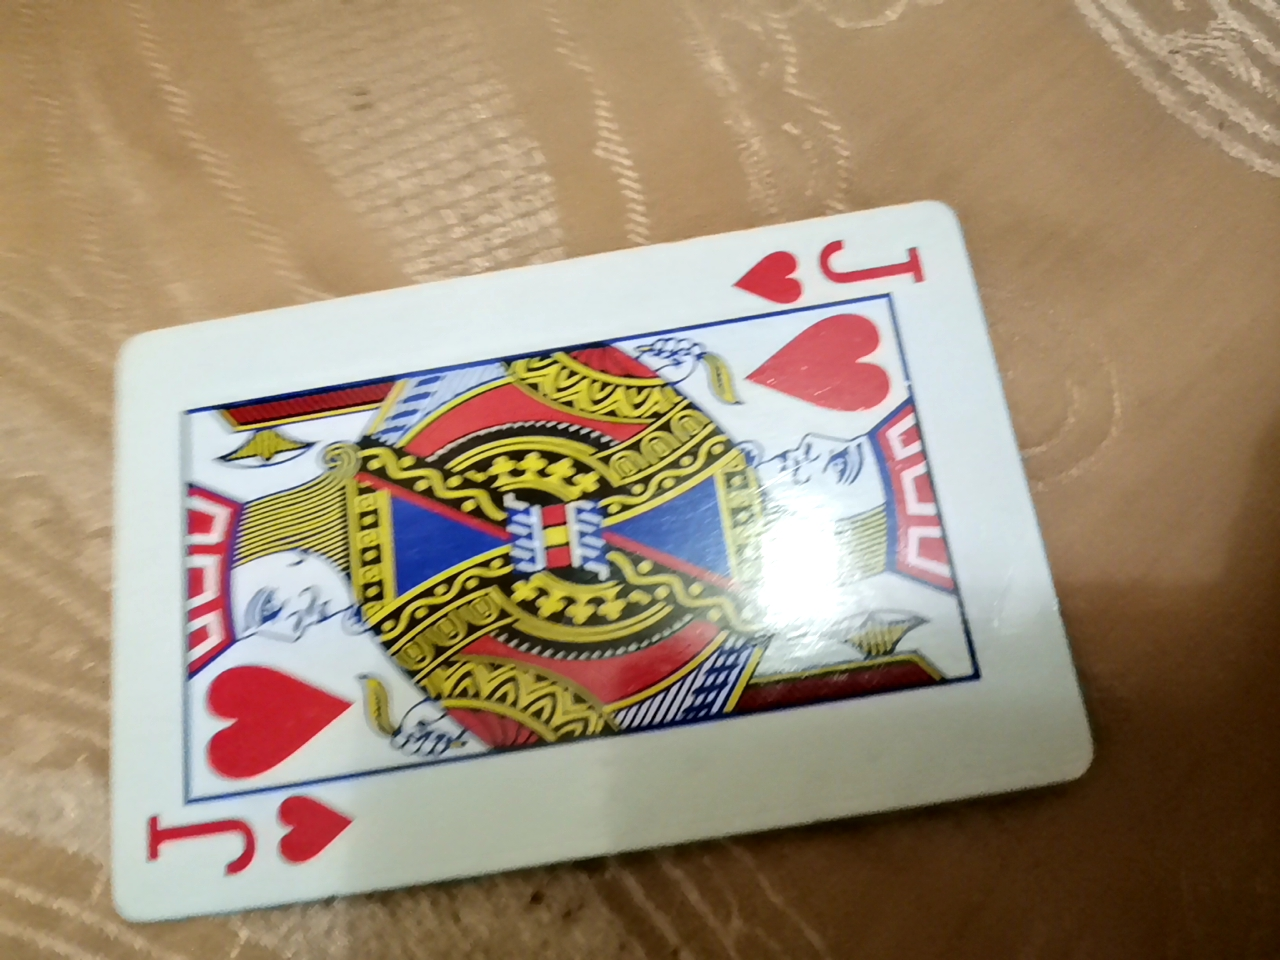hx j: (170, 164, 1110, 869)
